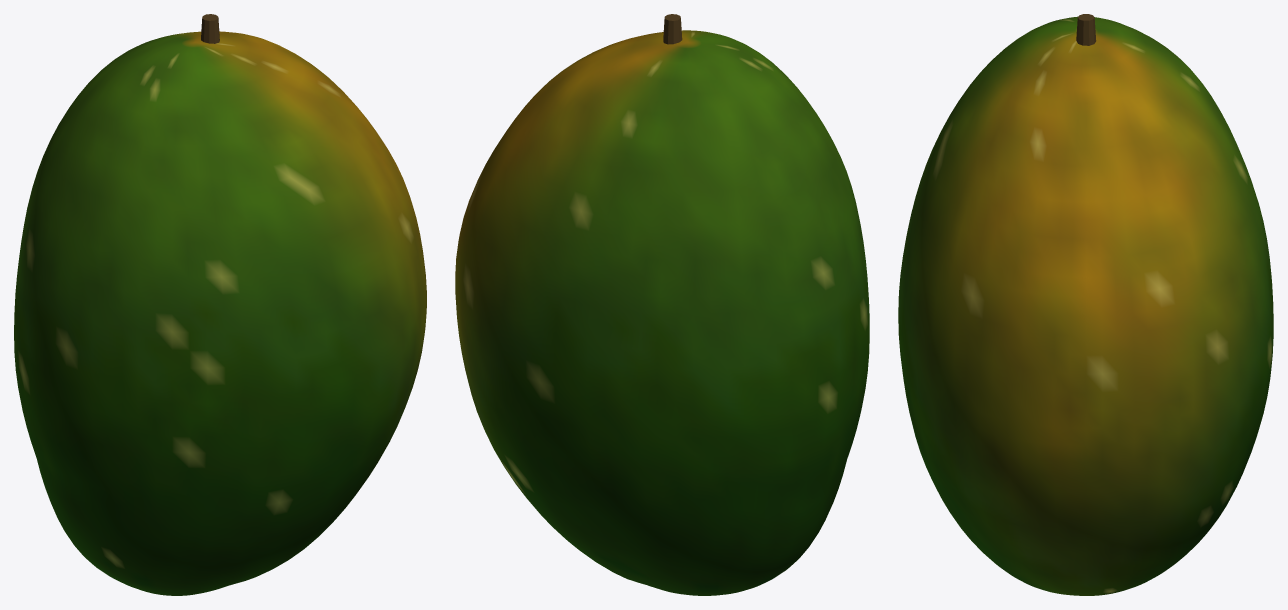
Rendered from mangue-emile.glb.
The picture shows the model from 3 angles, left to right: view 1: azimuth 30°, elevation 25°; view 2: azimuth 150°, elevation 25°; view 3: azimuth 270°, elevation 25°; orthographic projection. The views are drawn at different scales.
Parts seen in each view (by area): view 1: entier_peau, moitie_B_peau, moitie_A_peau; view 2: entier_peau, moitie_A_peau, moitie_B_peau; view 3: entier_peau, moitie_A_peau, moitie_B_peau, entier_extra0.
Part boxes in pixels (x1,y1,x2,y2): entier_peau: (14,31,426,595); moitie_B_peau: (36,39,426,595); moitie_A_peau: (14,32,310,558); entier_peau: (455,30,869,595); moitie_A_peau: (455,39,847,595); moitie_B_peau: (634,30,869,557); entier_peau: (898,16,1273,595); moitie_A_peau: (1086,18,1273,595); moitie_B_peau: (898,17,1086,595); entier_extra0: (1076,14,1096,45).
Bounding box in the file's own units: 1.44 × 2.08 × 1.24.
